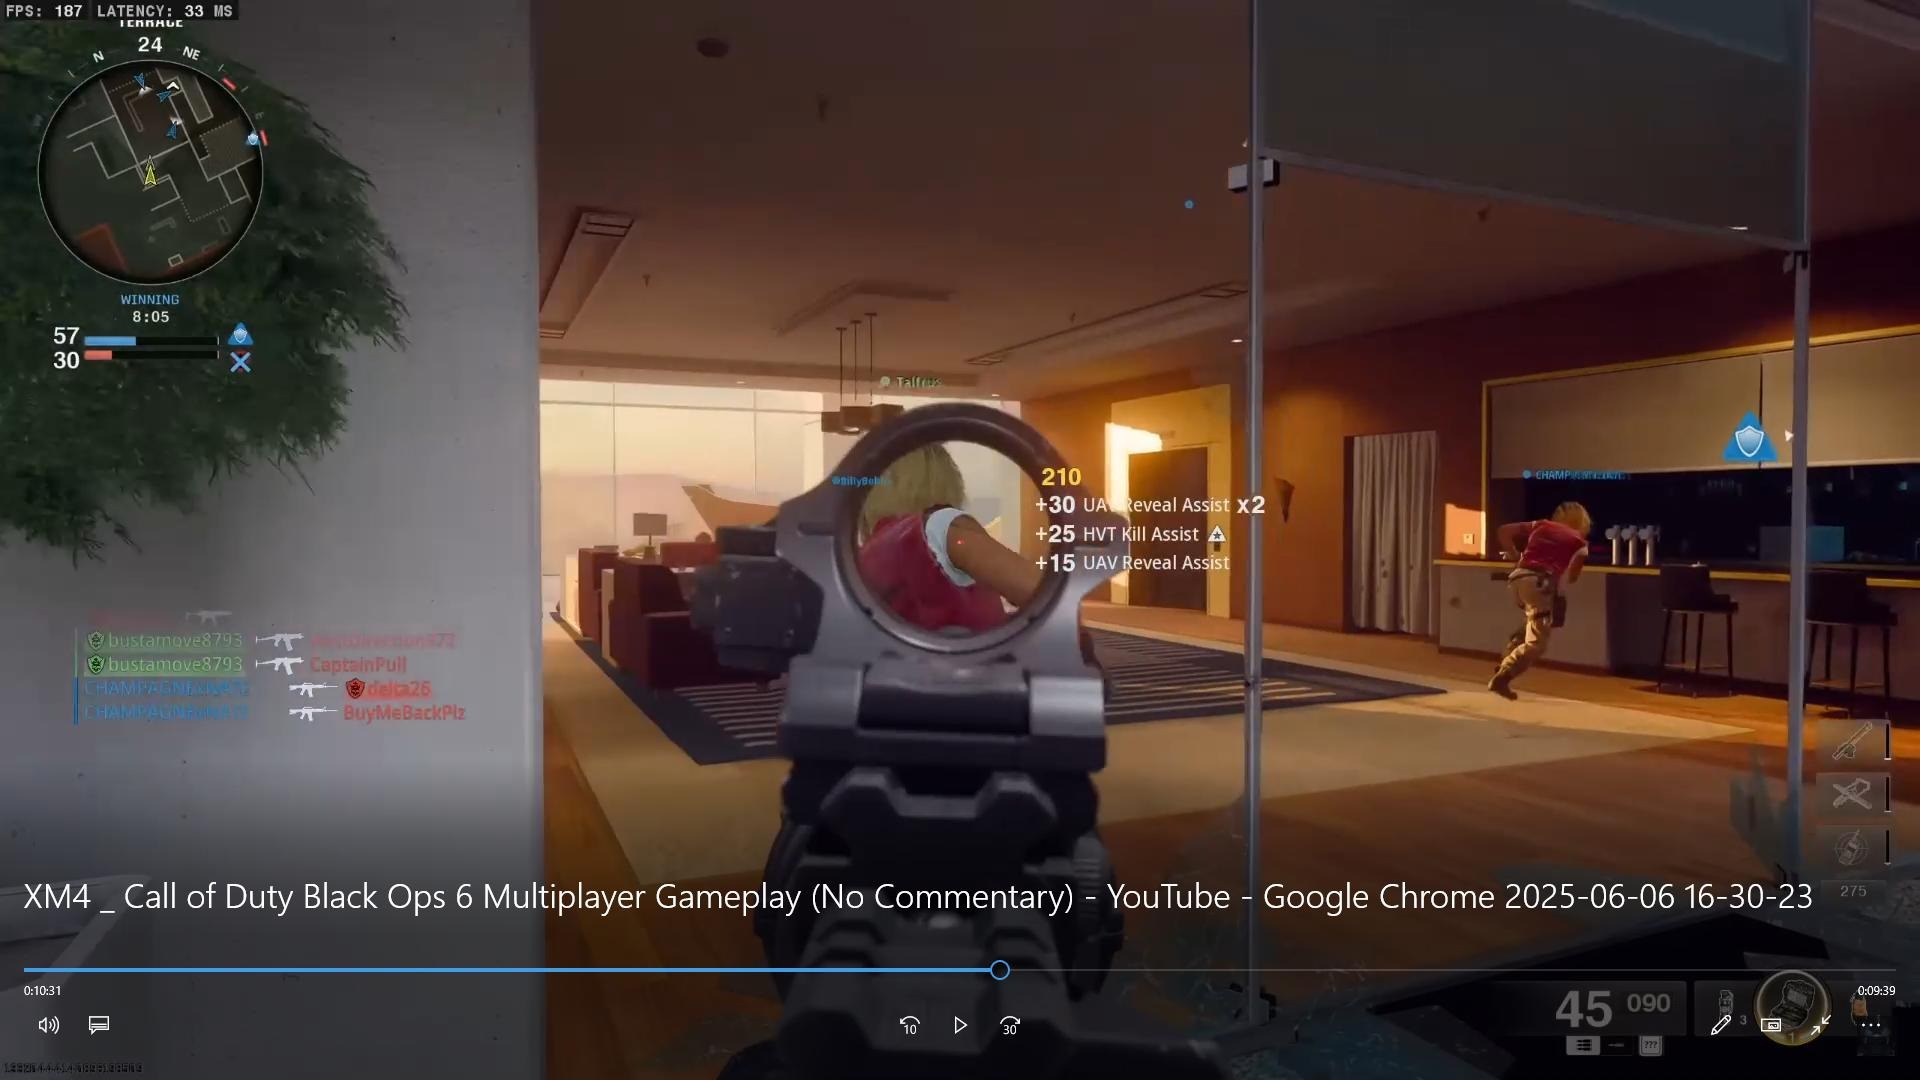Enemy: (1485, 495, 1610, 700), (881, 464, 1034, 626)
